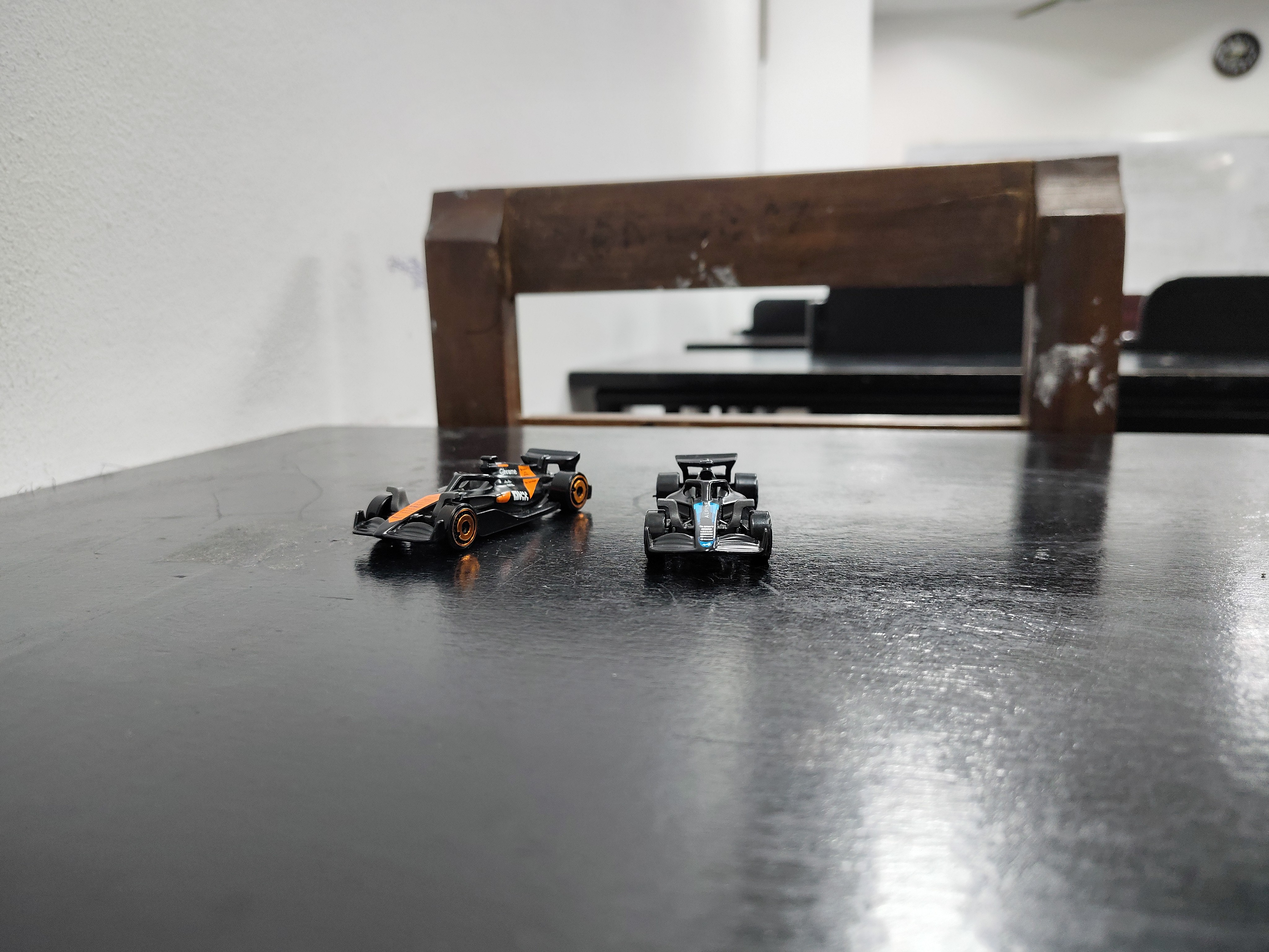Alpine A524: (589, 401, 802, 603)
McLaren MCL40: (314, 432, 612, 559)
